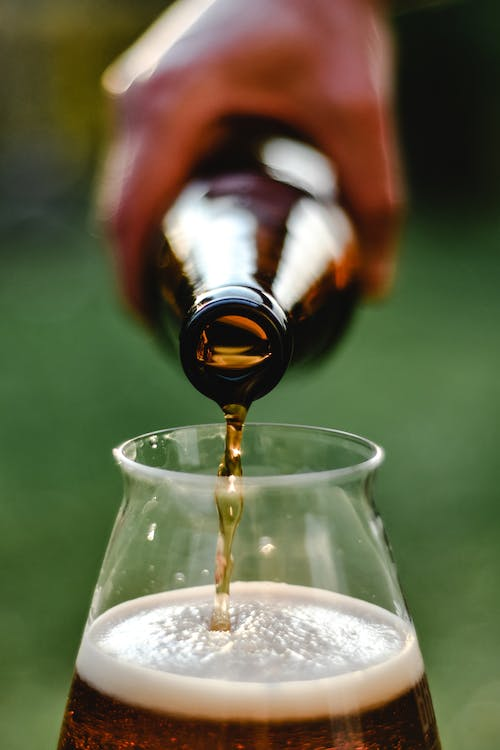alcohol: (52, 421, 443, 750), (146, 118, 362, 405)
